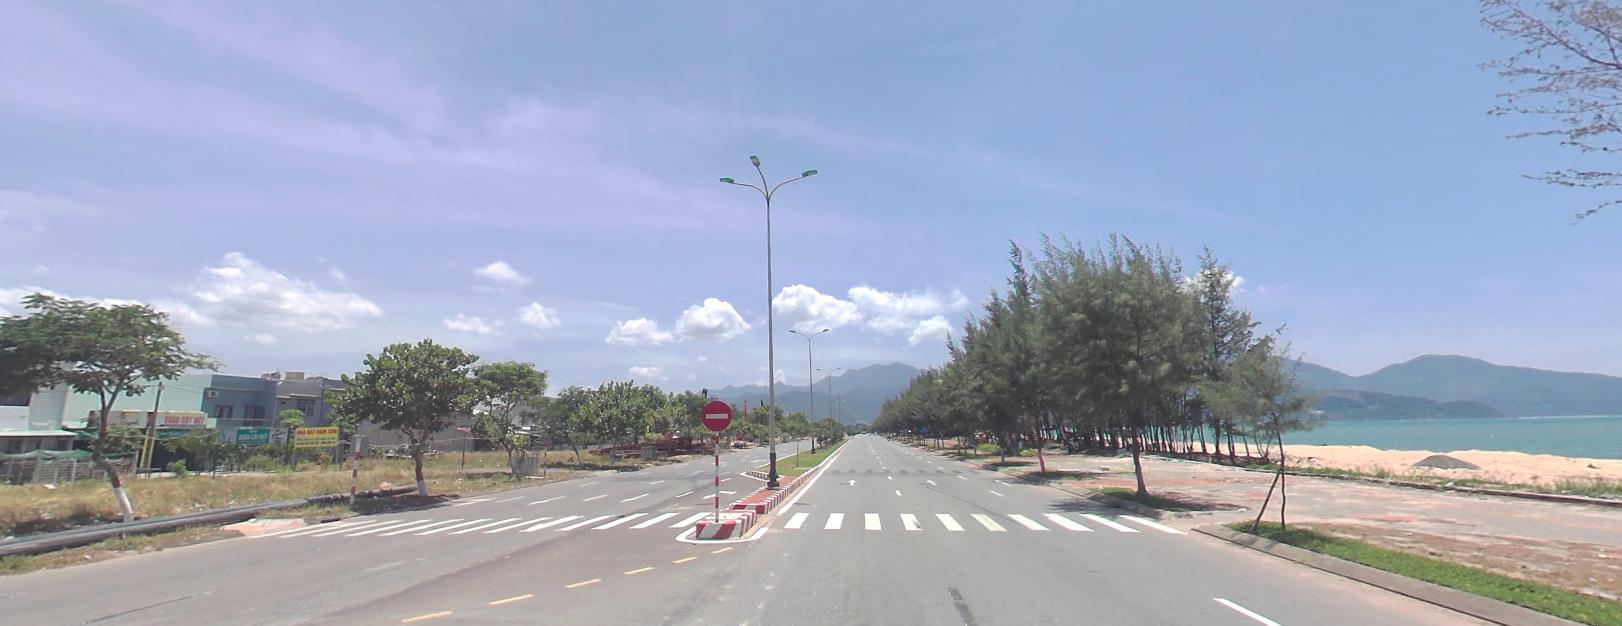Cam nguoc chieu: (701, 398, 732, 429)
